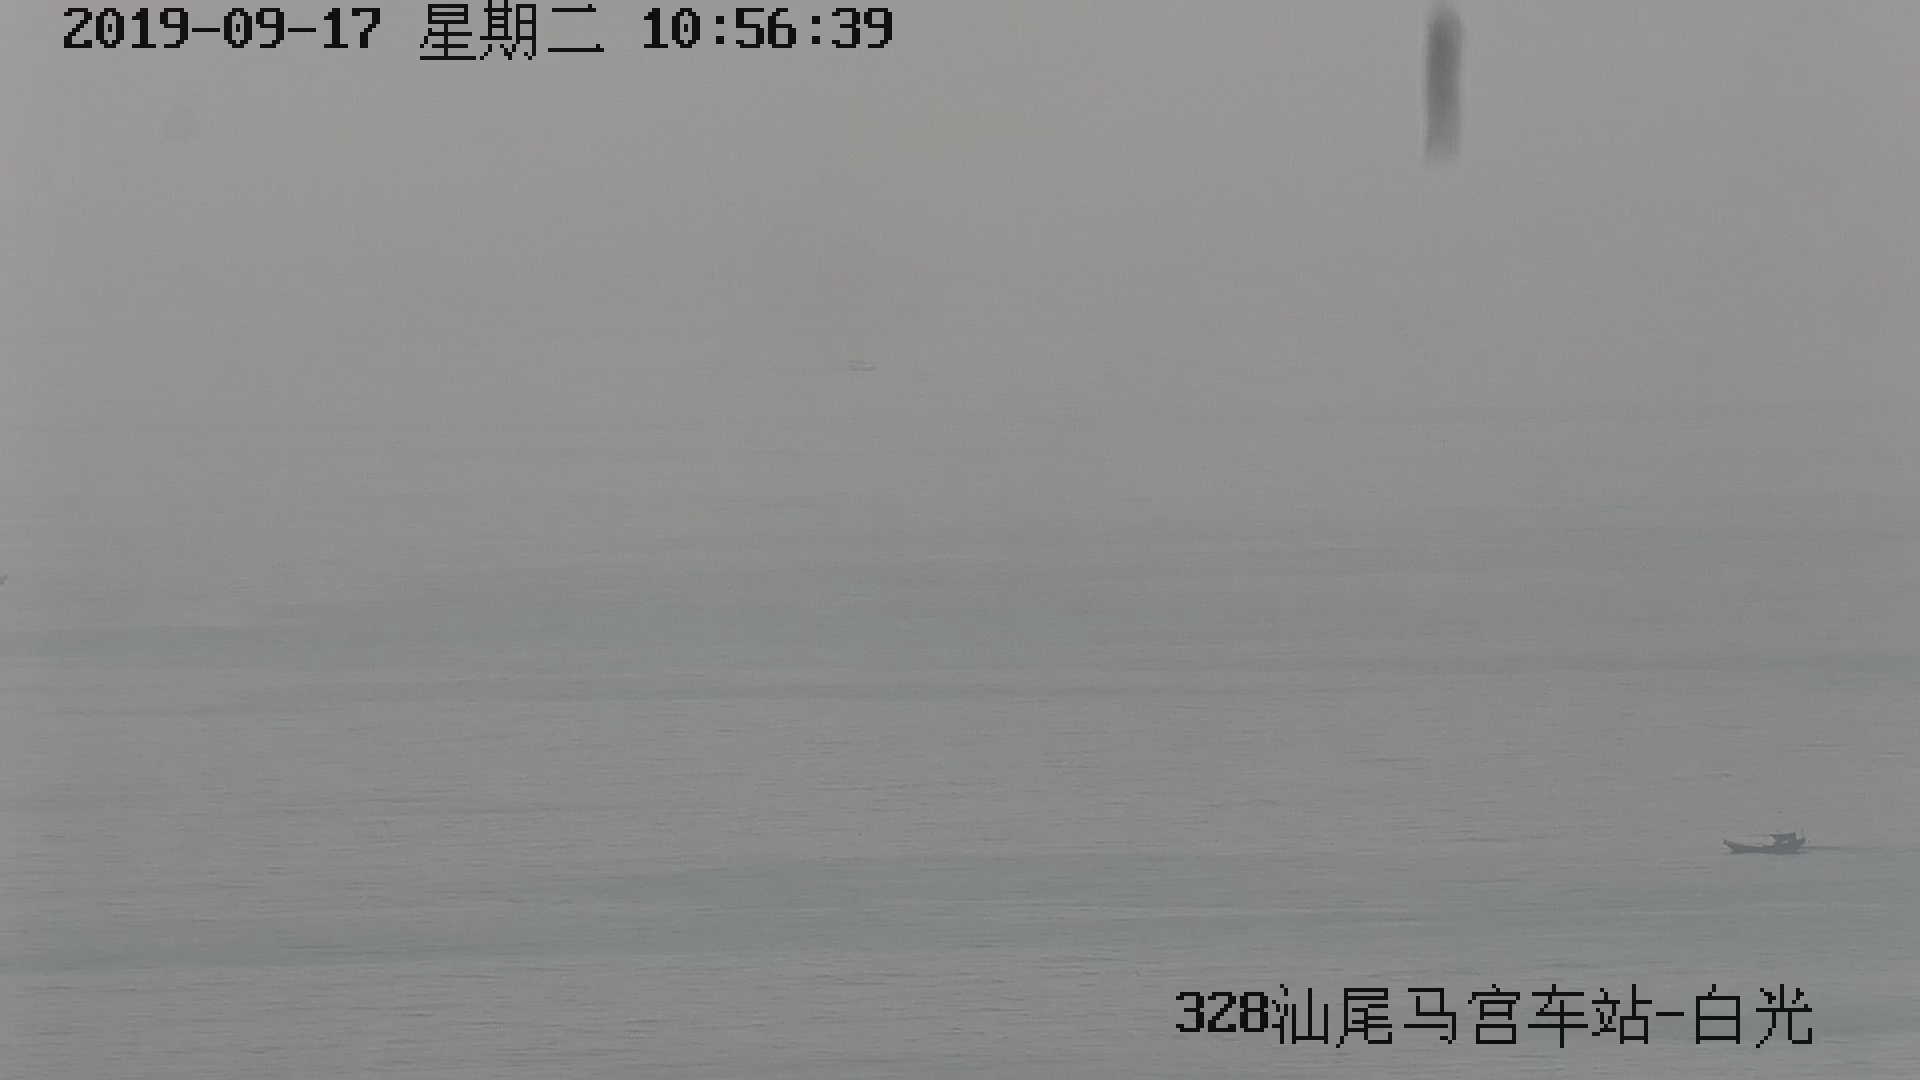ship: (1724, 832, 1807, 855)
